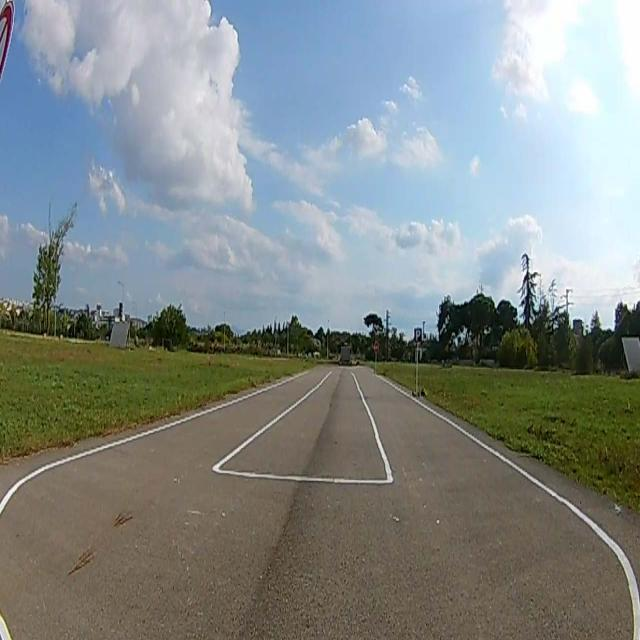park: (414, 328, 422, 342)
